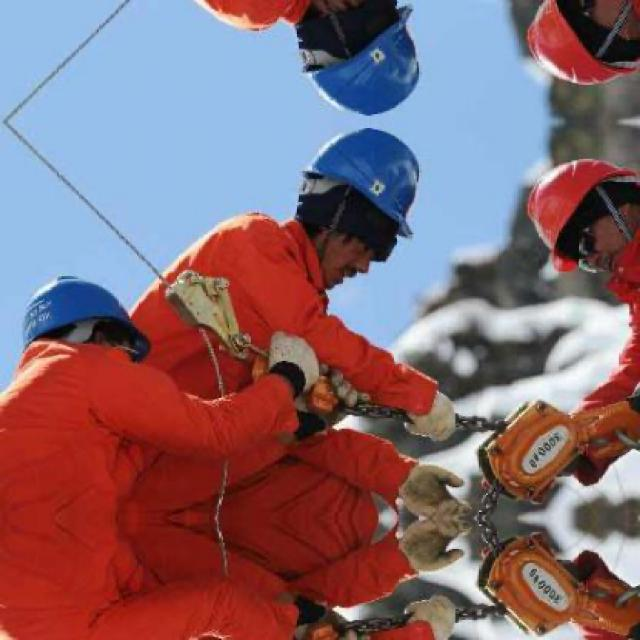helmet: (275, 128, 440, 288), (276, 0, 442, 117), (11, 262, 160, 392), (515, 148, 640, 292), (515, 0, 640, 97)
